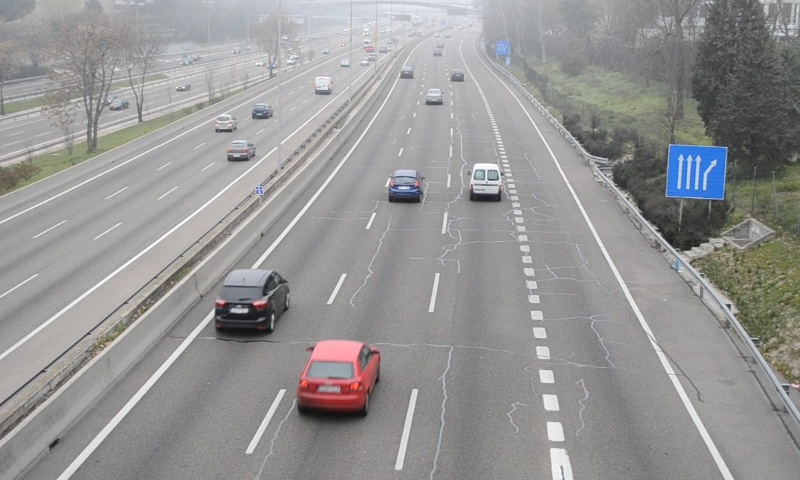car: (298, 342, 377, 415), (214, 270, 289, 332), (388, 168, 423, 201), (425, 87, 444, 106), (449, 68, 465, 82)
van: (469, 162, 502, 199)
